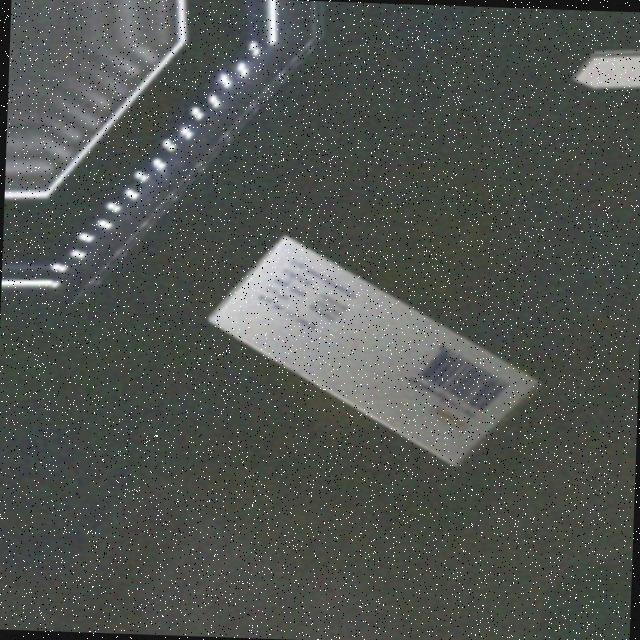sefloc: (205, 220, 541, 480)
